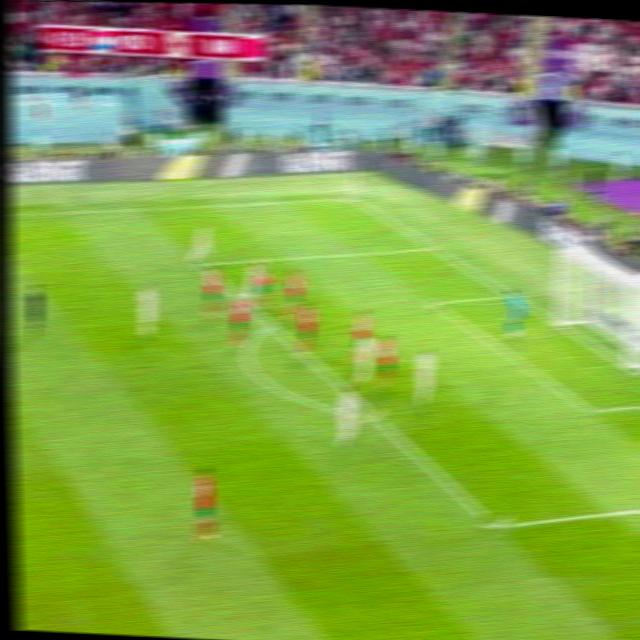bigarea_bottom_inner: (479, 510, 512, 543)
bigarea_top_inner: (192, 254, 208, 272)
bigarea_top_outter: (422, 237, 441, 259)
bottom_arc_area_intersection: (363, 404, 385, 429)
corner: (343, 194, 358, 206)
smallarea_bottom_inner: (578, 398, 603, 425)
smallarea_top_inner: (424, 296, 444, 313)
top_arc_area_intersection: (260, 312, 283, 342)
